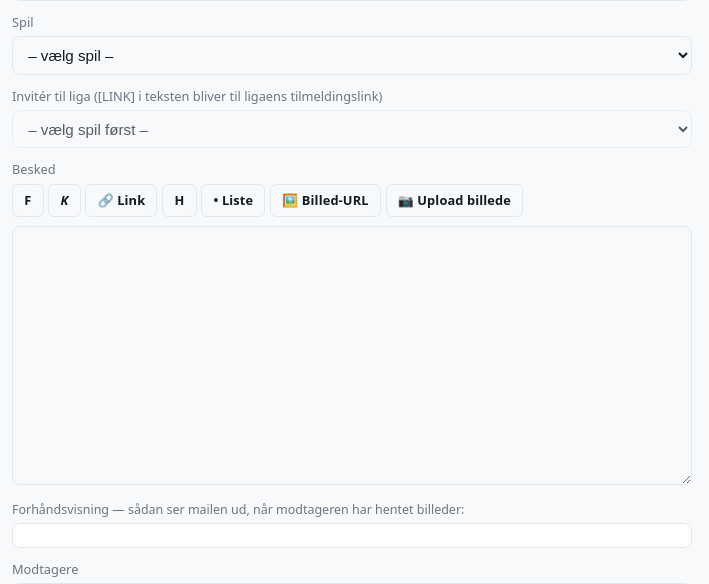
it: BroadcastTab (platform) — rig tekst + billeder › ombryder den markerede tekst ved cursor — ikke for enden
(page scrolled)
Type "Kære alle og tak" into the text box with test id "broadcast-body" at (352, 355), box x1=12 y1=226 x2=692 y2=485
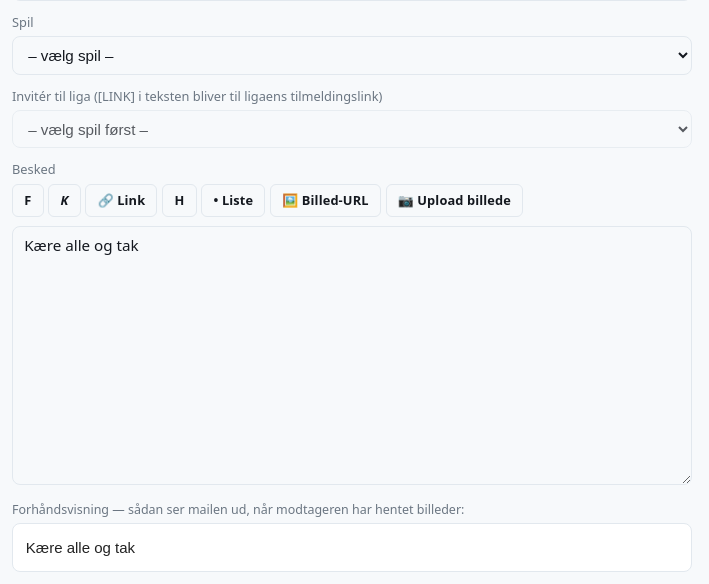
Click the button titled "Fed" at (28, 201), box x1=12 y1=184 x2=44 y2=217
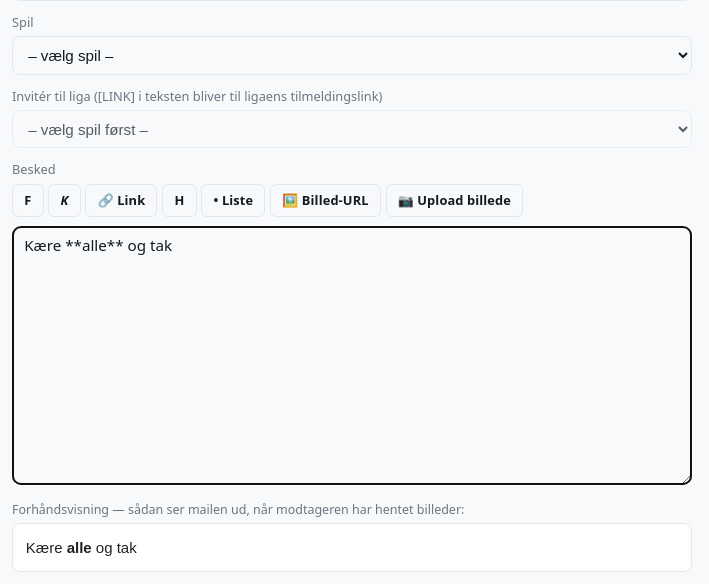
Check: the text box with test id "broadcast-body" holds "Kære **alle** og tak", box x1=12 y1=226 x2=692 y2=485
